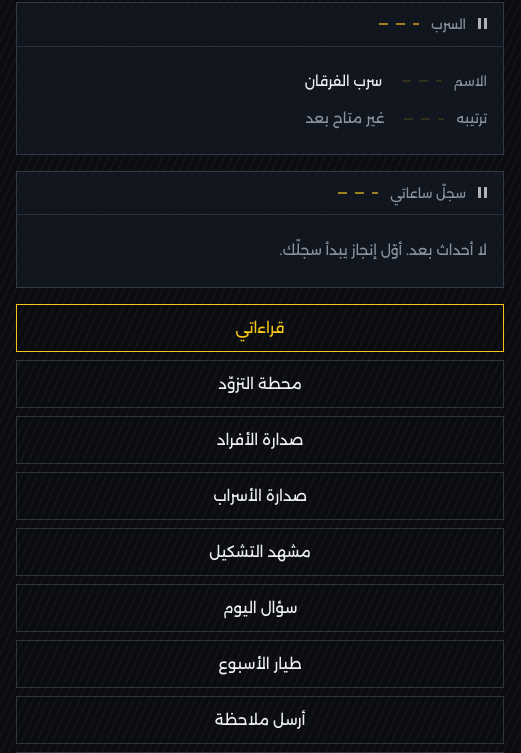
Test: محطة التزوّد — و-٨ › حالة بلا سرب مصمَّمة لا شاشة معطوبة
This screenshot has width=521, height=753.
(page scrolled)
Step 1. Click the button "محطة التزوّد" → (260, 384), box [16,360,504,408]
(page scrolled)
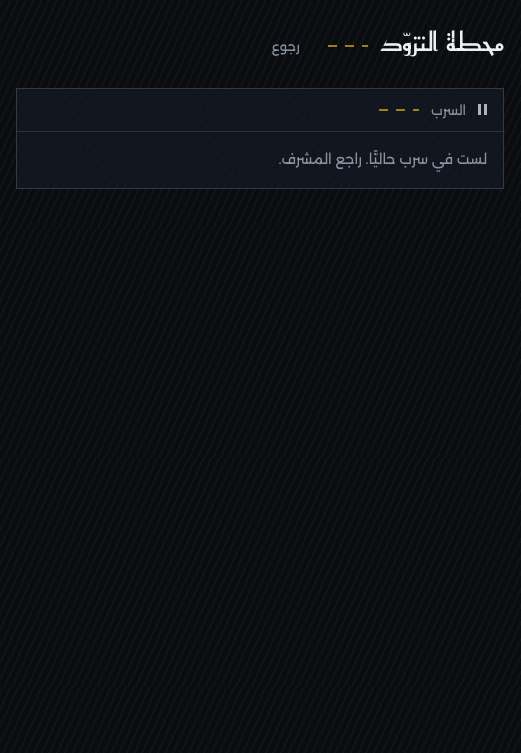
Check: the text "لست في سرب حاليًّا. راجع المشرف." is shown, box [278,150,487,168]
